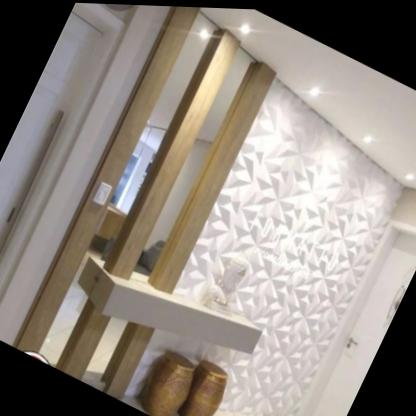Futech tiles: (194, 113, 402, 343)
